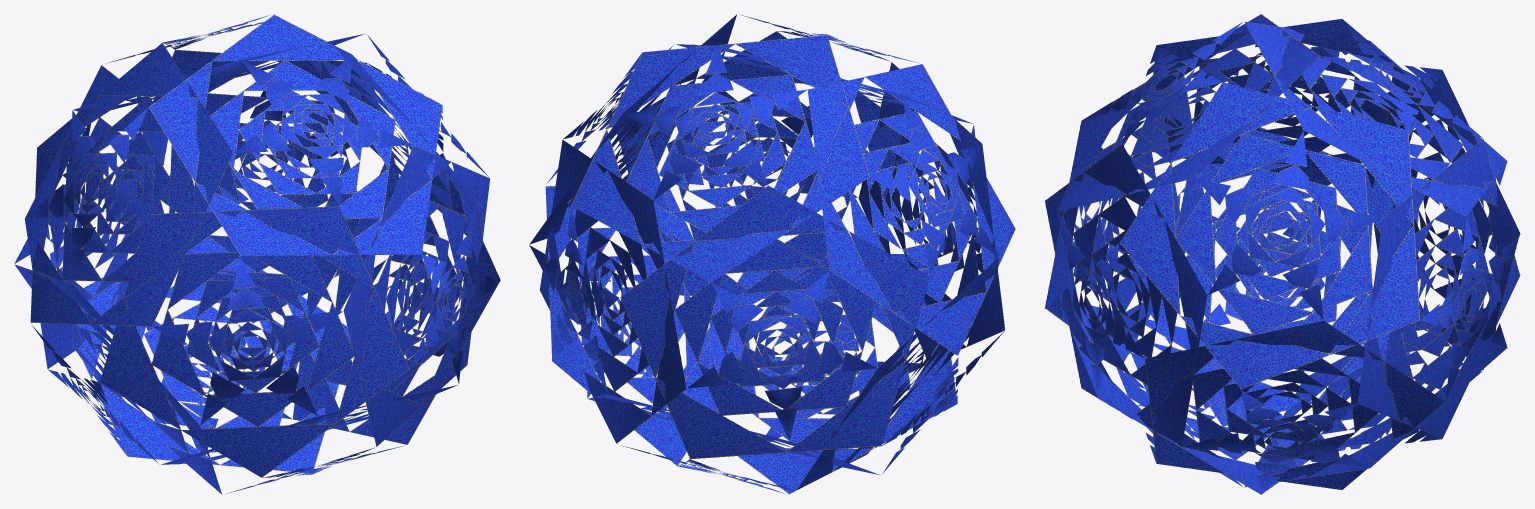
The model's file is SnubDodecadodecahedron14.gltf.
The picture shows the model from 3 angles, left to right: view 1: azimuth 30°, elevation 25°; view 2: azimuth 150°, elevation 25°; view 3: azimuth 270°, elevation 25°; orthographic projection.
Visible parts, largest first — view 1: SnubDodecadodecahedron14; view 2: SnubDodecadodecahedron14; view 3: SnubDodecadodecahedron14.
Part boxes in pixels (box(x1,y1,x2,y2)): SnubDodecadodecahedron14: box(14, 14, 500, 494); SnubDodecadodecahedron14: box(529, 14, 1015, 494); SnubDodecadodecahedron14: box(1044, 14, 1520, 494).
Size of the model in its own units: 2.48 by 2.48 by 2.48.
1 material, 1 textured.
